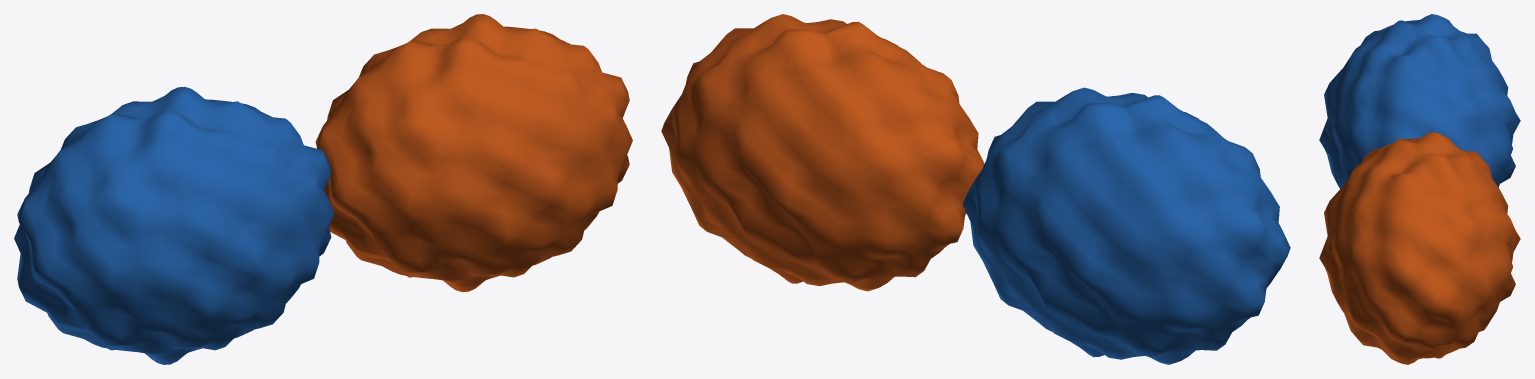
File: cortex-pial.glb
The picture shows the model from 3 angles, left to right: view 1: azimuth 30°, elevation 25°; view 2: azimuth 150°, elevation 25°; view 3: azimuth 270°, elevation 25°; orthographic projection. The views are drawn at different scales.
Visible parts, largest first — view 1: cortex.left, cortex.right; view 2: cortex.left, cortex.right; view 3: cortex.right, cortex.left.
Boxes of the visible parts, x1,y1,x2,y2 form: cortex.left: [14, 86, 334, 364]; cortex.right: [315, 14, 632, 292]; cortex.left: [962, 87, 1290, 364]; cortex.right: [661, 14, 984, 291]; cortex.right: [1319, 132, 1520, 364]; cortex.left: [1319, 14, 1520, 188].
Bounding box in the file's own units: 4.81 × 1.9 × 1.73.
